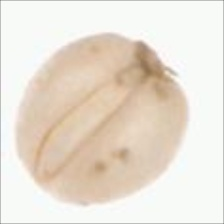L5: (30, 65, 145, 184), (133, 39, 181, 87)
L6: (13, 30, 191, 206)
